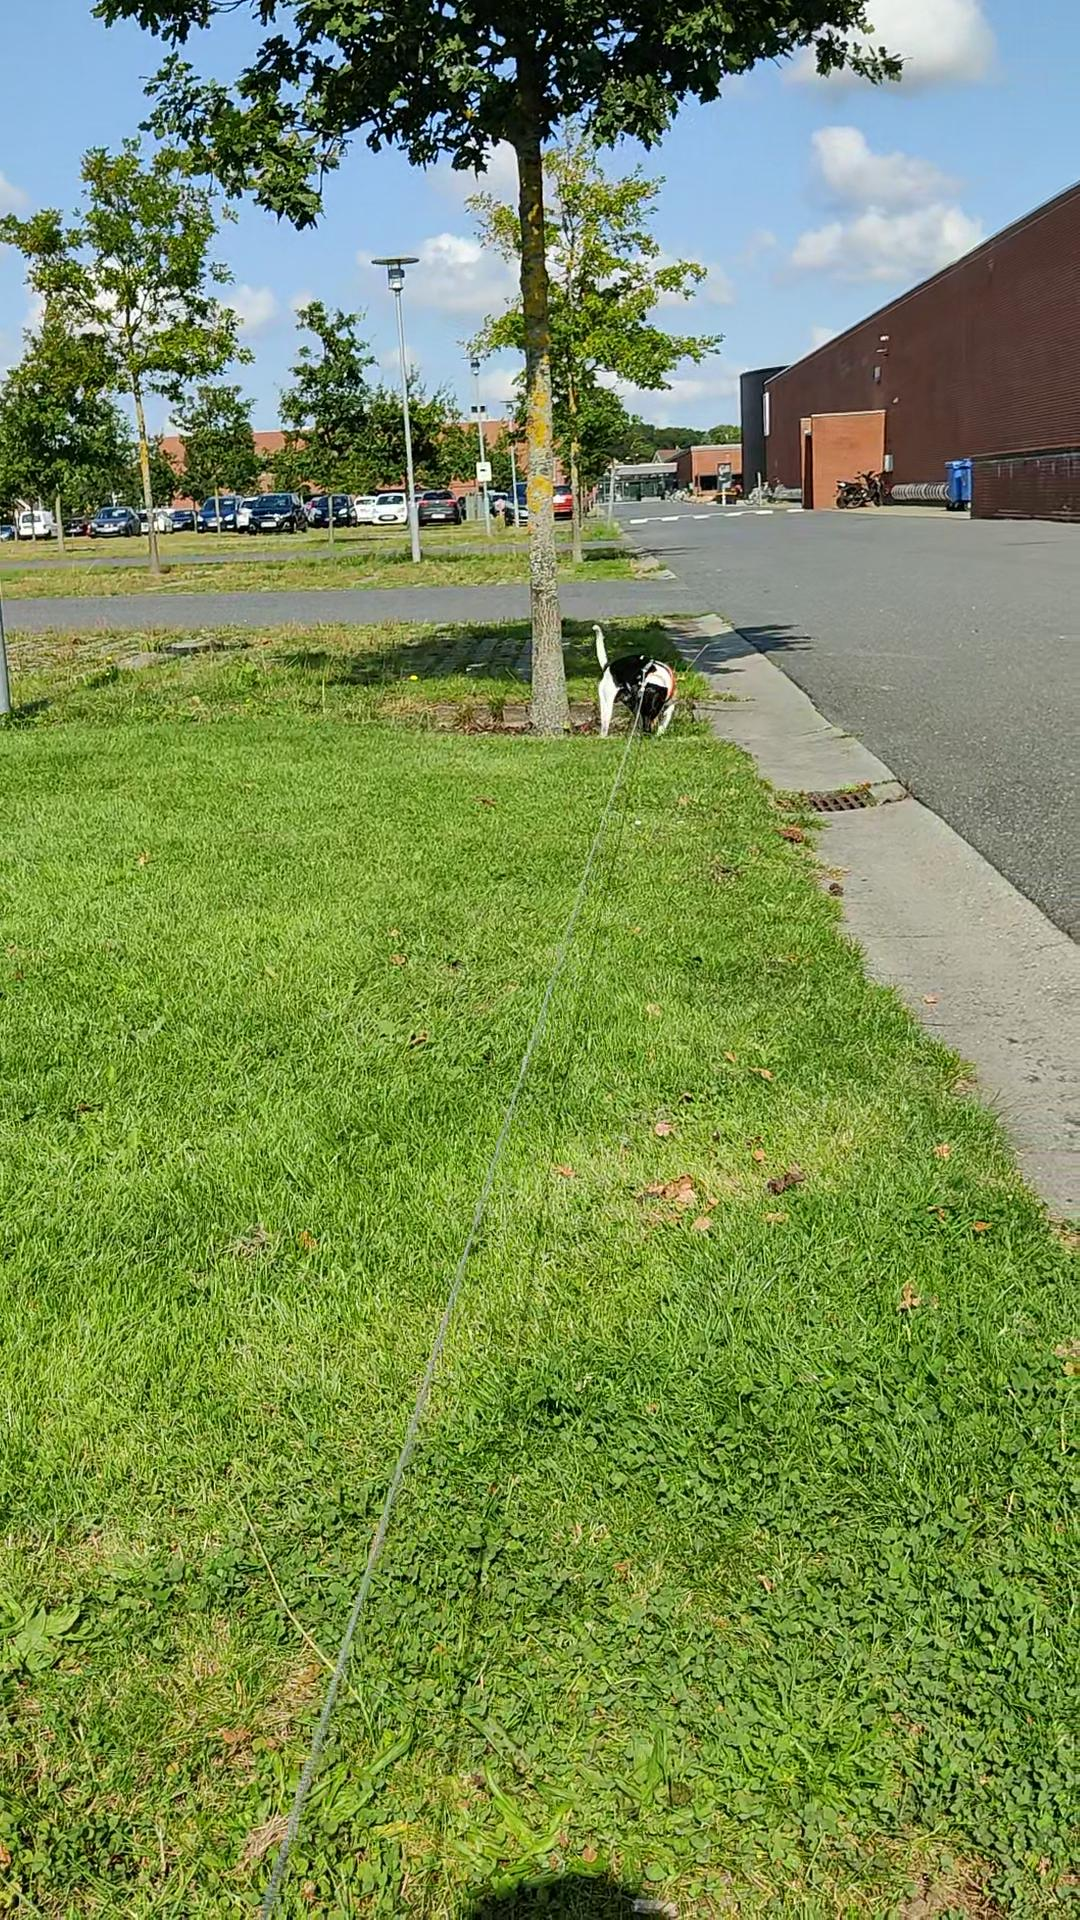Dog: (587, 620, 684, 737)
